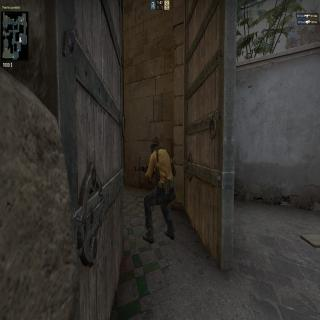T-Head: (150, 134, 161, 154)
